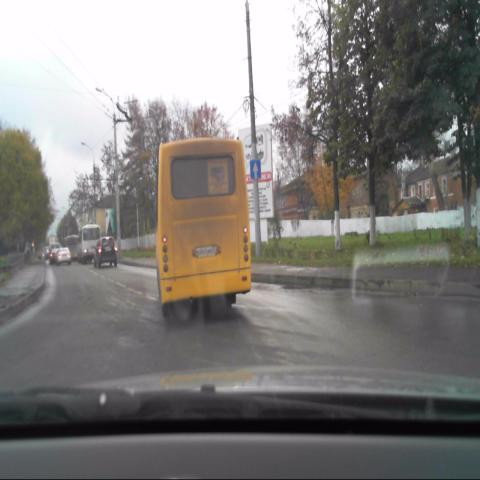5_5: (250, 157, 260, 178)
